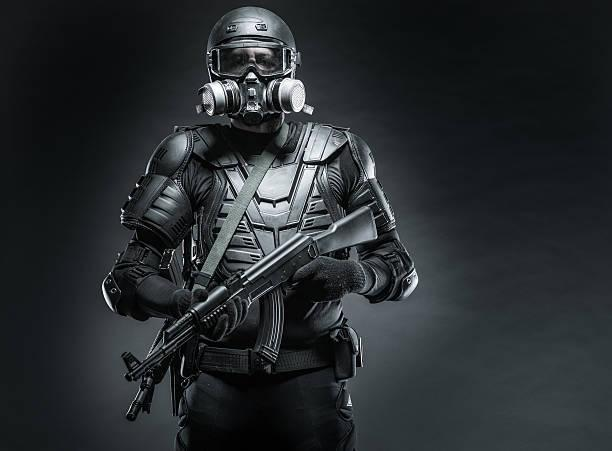larga: (118, 206, 378, 384)
